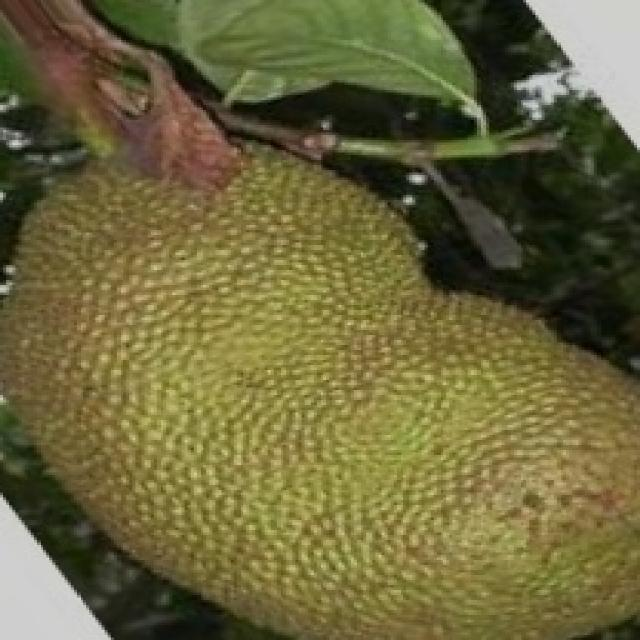Fruit: (286, 242, 637, 640), (0, 300, 369, 640)
